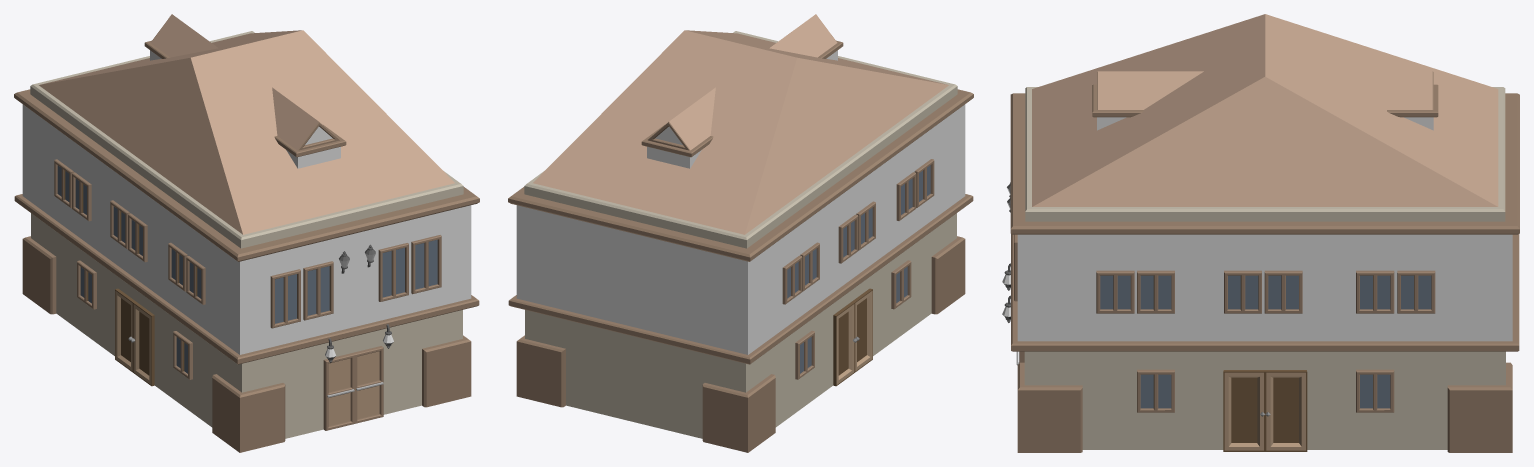
The model's file is casa_2_alturas_c.fbx.
3 renders of one model, left to right at view 1: azimuth 30°, elevation 25°; view 2: azimuth 150°, elevation 25°; view 3: azimuth 270°, elevation 25°, orthographic. The views are drawn at different scales.
Visible parts, largest first — view 1: CASA_2_alturas, puerta_22, pCube173, puerta_23, pCube174, ventana_171, ventana_172, ventana_173, ventana_174, ventana_175, ventana_176, ventana_179 (+5 smaller); view 2: CASA_2_alturas, pCube174, puerta_23, pCube173, ventana_176, ventana_177, ventana_181, ventana_180, ventana_175, ventana_179, ventana_182, ventana_178; view 3: CASA_2_alturas, puerta_24, pCube174, pCube173, ventana_189, ventana_184, ventana_185, ventana_186, ventana_187, ventana_188, ventana_190, ventana_191.
Part boxes in pixels (<box>): CASA_2_alturas: <box>14,30,479,452</box>; puerta_22: <box>323,346,383,430</box>; pCube173: <box>272,87,346,168</box>; puerta_23: <box>115,288,154,386</box>; pCube174: <box>144,14,218,60</box>; ventana_171: <box>270,269,300,328</box>; ventana_172: <box>303,261,333,320</box>; ventana_173: <box>411,235,441,294</box>; ventana_174: <box>378,243,408,301</box>; ventana_175: <box>77,260,96,309</box>; ventana_176: <box>173,331,192,379</box>; ventana_179: <box>186,256,205,304</box>; CASA_2_alturas: <box>508,30,973,452</box>; pCube174: <box>641,87,715,168</box>; puerta_23: <box>833,288,872,386</box>; pCube173: <box>769,14,843,60</box>; ventana_176: <box>891,260,911,309</box>; ventana_177: <box>896,172,916,220</box>; ventana_181: <box>838,214,858,263</box>; ventana_180: <box>782,255,802,304</box>; ventana_175: <box>795,330,814,379</box>; ventana_179: <box>914,159,934,207</box>; ventana_182: <box>856,201,875,250</box>; ventana_178: <box>800,242,819,291</box>; CASA_2_alturas: <box>1010,14,1519,452</box>; puerta_24: <box>1223,370,1307,451</box>; pCube174: <box>1326,71,1438,130</box>; pCube173: <box>1092,71,1203,130</box>; ventana_189: <box>1096,270,1134,313</box>; ventana_184: <box>1356,369,1394,412</box>; ventana_185: <box>1397,270,1435,313</box>; ventana_186: <box>1356,270,1394,313</box>; ventana_187: <box>1264,270,1302,313</box>; ventana_188: <box>1224,270,1261,313</box>; ventana_190: <box>1137,270,1174,313</box>; ventana_191: <box>1137,369,1174,412</box>.
Size of the model in its own units: 837 by 995 by 1360.
